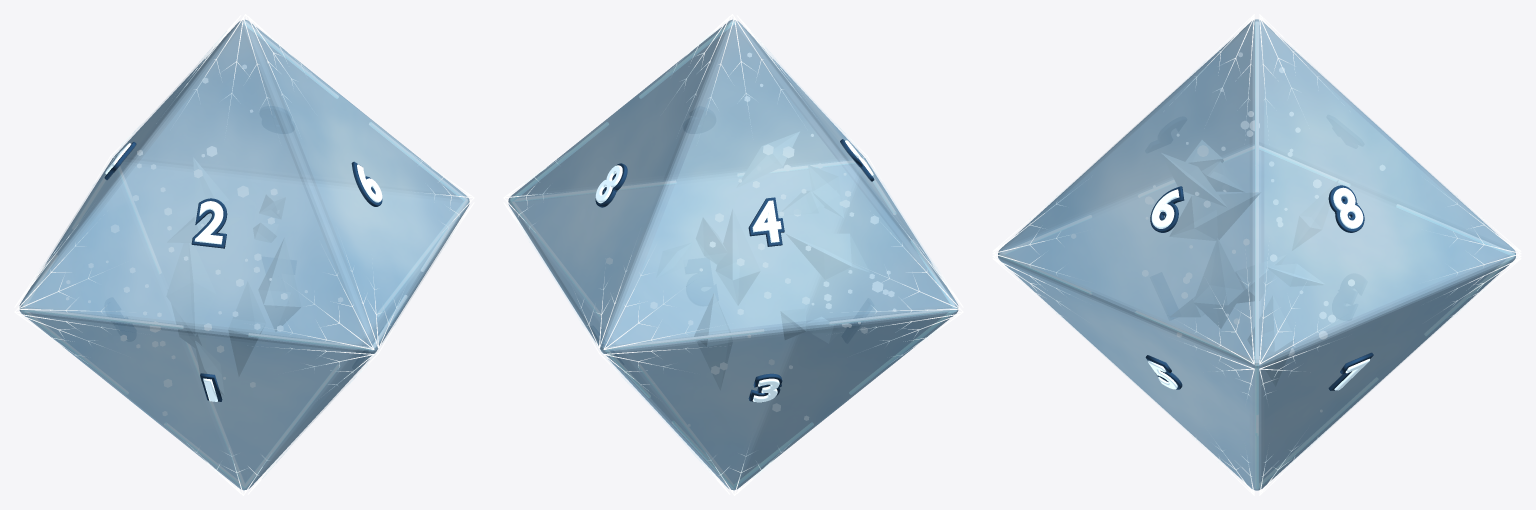
Rendered from D8_八面骰_月白冰晶_baked.glb.
The picture shows the model from 3 angles, left to right: view 1: azimuth 30°, elevation 25°; view 2: azimuth 150°, elevation 25°; view 3: azimuth 270°, elevation 25°; orthographic projection.
Visible parts, largest first — view 1: D8_Body_8_Faces, D8_Continuous_Frost_Gradient_v3, D8_Floating_Ice_Shards, D8_Moonwhite_Broken_Ice_Seam, D8_Every_Face_Vertex_Frost_v6, D8_Floating_Frost_Motes, D8_Face_02_2_Dark_Ice_Back_v7, D8_Face_02_2; view 2: D8_Body_8_Faces, D8_Continuous_Frost_Gradient_v3, D8_Floating_Ice_Shards, D8_Moonwhite_Broken_Ice_Seam, D8_Every_Face_Vertex_Frost_v6, D8_Floating_Frost_Motes, D8_Face_04_4, D8_Face_04_4_Dark_Ice_Back_v7, D8_Face_08_8; view 3: D8_Body_8_Faces, D8_Continuous_Frost_Gradient_v3, D8_Floating_Ice_Shards, D8_Moonwhite_Broken_Ice_Seam, D8_Every_Face_Vertex_Frost_v6, D8_Floating_Frost_Motes, D8_Face_08_8, D8_Face_06_6.
Part boxes in pixels (box(x1,y1,x2,y2)): D8_Body_8_Faces: box(19, 19, 469, 490); D8_Continuous_Frost_Gradient_v3: box(52, 61, 443, 458); D8_Floating_Ice_Shards: box(167, 159, 301, 394); D8_Moonwhite_Broken_Ice_Seam: box(21, 21, 467, 488); D8_Every_Face_Vertex_Frost_v6: box(14, 14, 474, 495); D8_Floating_Frost_Motes: box(66, 65, 342, 415); D8_Face_02_2_Dark_Ice_Back_v7: box(191, 198, 227, 248); D8_Face_02_2: box(194, 201, 223, 244); D8_Body_8_Faces: box(508, 19, 958, 490); D8_Continuous_Frost_Gradient_v3: box(533, 67, 930, 450); D8_Floating_Ice_Shards: box(656, 132, 869, 389); D8_Moonwhite_Broken_Ice_Seam: box(510, 21, 956, 488); D8_Every_Face_Vertex_Frost_v6: box(503, 14, 963, 495); D8_Floating_Frost_Motes: box(606, 53, 895, 426); D8_Face_04_4: box(752, 200, 781, 242); D8_Face_04_4_Dark_Ice_Back_v7: box(748, 197, 784, 246); D8_Face_08_8: box(595, 165, 622, 203); D8_Body_8_Faces: box(998, 19, 1515, 490); D8_Continuous_Frost_Gradient_v3: box(1061, 73, 1453, 459); D8_Floating_Ice_Shards: box(1161, 140, 1337, 386); D8_Moonwhite_Broken_Ice_Seam: box(999, 22, 1514, 488); D8_Every_Face_Vertex_Frost_v6: box(992, 14, 1521, 495); D8_Floating_Frost_Motes: box(1071, 52, 1384, 411); D8_Face_08_8: box(1333, 187, 1363, 228); D8_Face_06_6: box(1151, 189, 1179, 228).
Size of the model in its own units: 3.99 by 3.99 by 3.99.
Materials: 11 (2 with a texture image).
